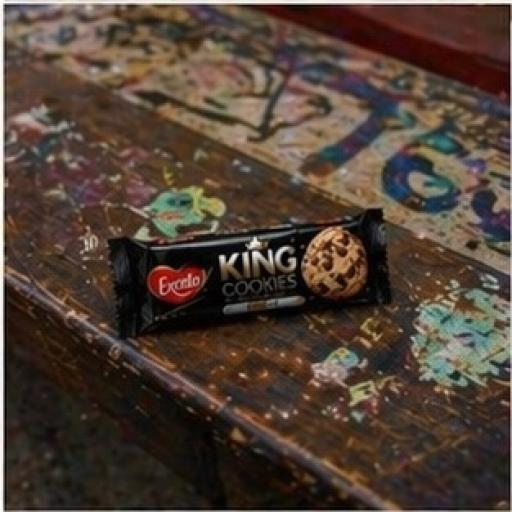king-cooking: (76, 165, 454, 371)
